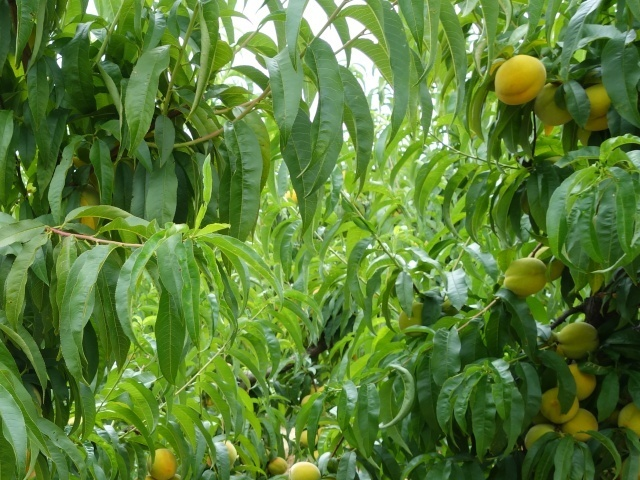peach: (573, 68, 627, 141), (490, 49, 551, 111), (531, 72, 578, 126), (501, 254, 553, 299), (553, 316, 602, 359), (540, 383, 584, 425), (559, 362, 602, 400), (522, 415, 569, 449), (565, 402, 602, 443), (398, 300, 432, 339), (146, 444, 182, 480), (615, 393, 639, 445), (285, 459, 324, 480)
